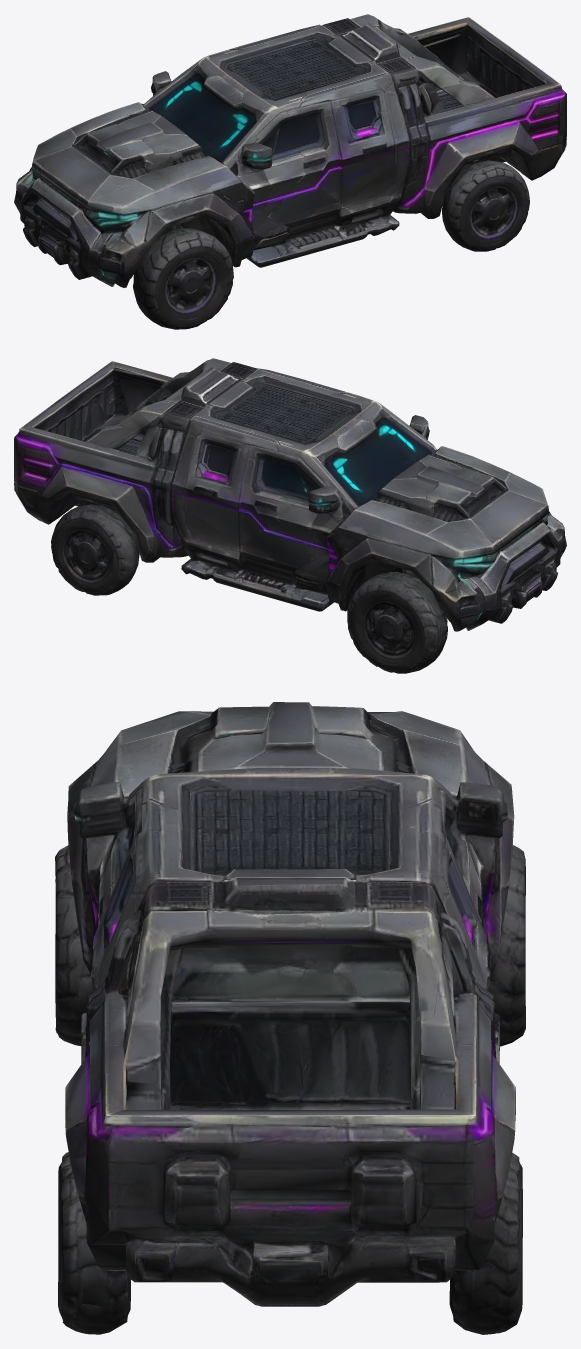
Rendered from truck.glb.
3 renders of one model, top to bottom at view 1: azimuth 30°, elevation 25°; view 2: azimuth 150°, elevation 25°; view 3: azimuth 270°, elevation 25°, orthographic. The views are drawn at different scales.
Parts seen in each view (by area): view 1: Mesh_0; view 2: Mesh_0; view 3: Mesh_0.
Part boxes in pixels (x1,y1,x2,y2): Mesh_0: [14, 14, 566, 329]; Mesh_0: [14, 358, 566, 673]; Mesh_0: [55, 702, 525, 1334].
Bounding box in the file's own units: 1.91 × 0.7339 × 0.7943.
Materials: 1 (1 with a texture image).
